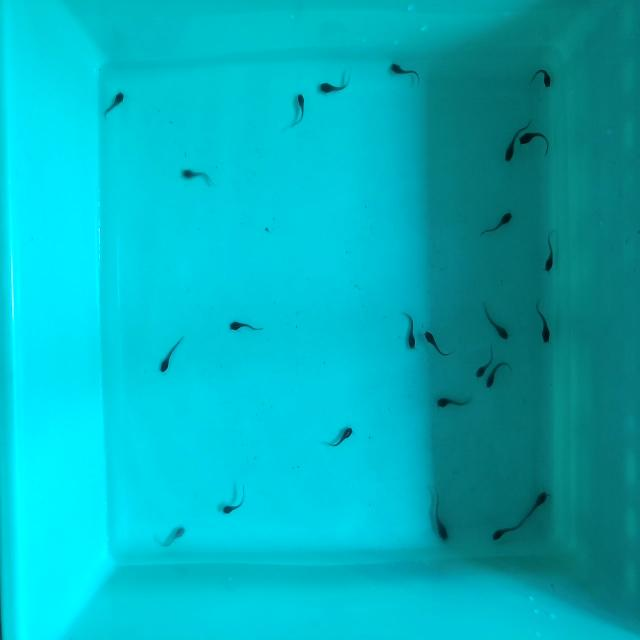lele: (503, 112, 538, 164), (154, 329, 190, 378), (518, 482, 553, 526), (481, 305, 515, 344), (479, 207, 516, 241), (428, 490, 451, 543), (530, 298, 553, 348), (483, 354, 511, 395), (473, 344, 501, 382), (385, 57, 423, 84), (488, 516, 522, 546), (423, 324, 451, 359), (101, 87, 128, 121), (527, 60, 557, 90), (328, 420, 356, 451), (219, 491, 251, 518), (402, 307, 420, 354), (176, 165, 214, 187), (161, 522, 191, 549), (542, 228, 558, 273), (314, 76, 351, 94), (228, 318, 266, 334), (518, 132, 553, 149), (436, 394, 472, 409), (295, 90, 307, 126)
